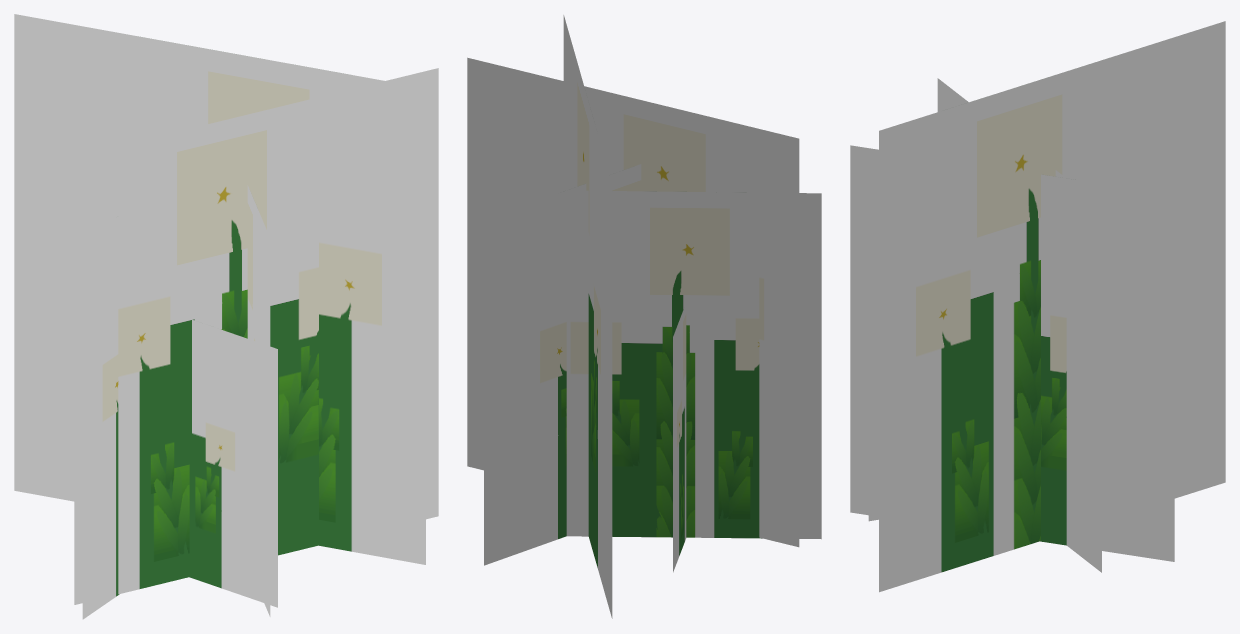
The picture shows the model from 3 angles, left to right: view 1: azimuth 30°, elevation 25°; view 2: azimuth 150°, elevation 25°; view 3: azimuth 270°, elevation 25°; orthographic projection. The views are drawn at different scales.
Parts seen in each view (by area): view 1: 平面_5; view 2: 平面_5; view 3: 平面_5.
Boxes of the visible parts, bbox=[...] form: 平面_5: bbox=[14, 14, 438, 619]; 平面_5: bbox=[467, 15, 821, 618]; 平面_5: bbox=[850, 21, 1225, 592].
Size of the model in its own units: 24.14 by 29.63 by 21.77.
Materials: 1 (1 with a texture image).
